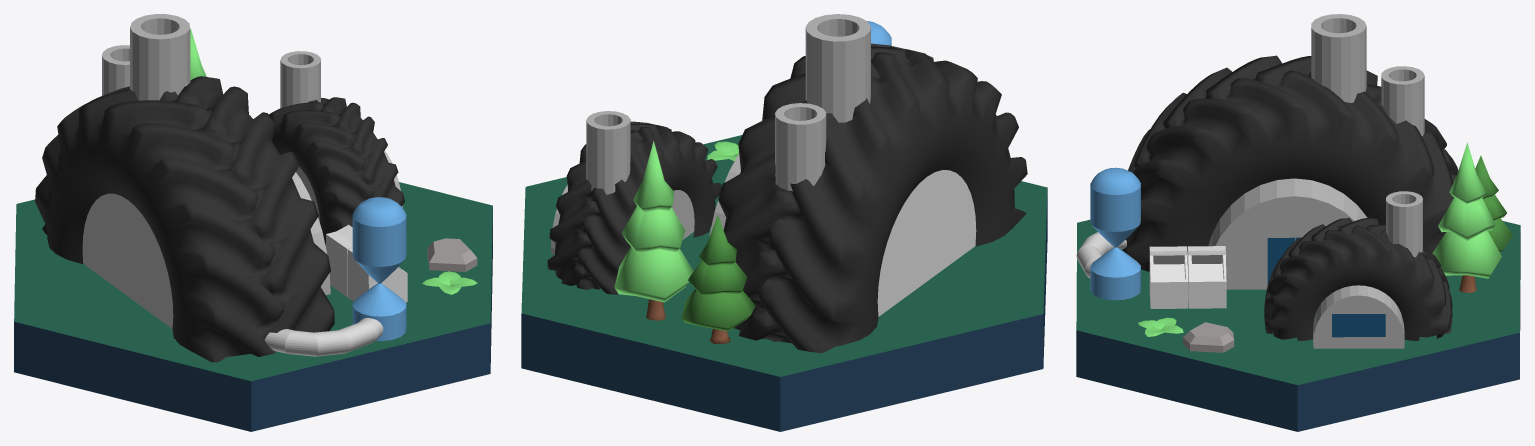
The model's file is Macro - transportation factory lv2 wm 2.fbx.
3 renders of one model, left to right at view 1: azimuth 30°, elevation 25°; view 2: azimuth 150°, elevation 25°; view 3: azimuth 270°, elevation 25°, orthographic. The views are drawn at different scales.
Parts seen in each view (by area): view 1: Cylinder.018, Cylinder.154, Cylinder.020, Cylinder.014, Cylinder.007, Cylinder.011, Cube.004, Cylinder.003, Rock Type4 04 mesh.001, Cube.002, Cube.003, Cylinder.004 (+2 smaller); view 2: Cylinder.154, Cylinder.018, Cylinder.020, Cylinder.014, Tree_Spruce_tiny_01.002, Cylinder.011, Tree_Spruce_tiny_01.001, Cylinder.004, Cylinder.003, Cylinder.006; view 3: Cylinder.154, Cylinder.018, Cylinder.020, Cylinder.016, Cylinder.007, Tree_Spruce_tiny_01.002, Cylinder.011, Cylinder.015, Cube.002, Cube.003, Cylinder.004, Cylinder.003 (+6 smaller).
Boxes of the visible parts, box(x1,y1,x2,y2) form: Cylinder.018: box(35, 76, 334, 362); Cylinder.154: box(14, 182, 492, 431); Cylinder.020: box(269, 97, 406, 244); Cylinder.014: box(82, 193, 173, 328); Cylinder.007: box(352, 197, 406, 341); Cylinder.011: box(130, 14, 190, 100); Cube.004: box(264, 318, 383, 356); Cylinder.003: box(280, 51, 320, 108); Rock Type4 04 mesh.001: box(427, 238, 477, 271); Cube.002: box(347, 248, 407, 302); Cube.003: box(326, 224, 352, 296); Cylinder.004: box(102, 45, 129, 95); Cylinder.154: box(521, 135, 1047, 431); Cylinder.018: box(718, 43, 1027, 353); Cylinder.020: box(547, 121, 721, 294); Cylinder.014: box(877, 170, 976, 316); Tree_Spruce_tiny_01.002: box(614, 141, 693, 320); Cylinder.011: box(805, 14, 870, 122); Tree_Spruce_tiny_01.001: box(681, 214, 755, 344); Cylinder.004: box(775, 103, 826, 191); Cylinder.003: box(586, 111, 630, 194); Cylinder.006: box(672, 190, 694, 239); Cylinder.154: box(1076, 219, 1520, 431); Cylinder.018: box(1122, 55, 1458, 271); Cylinder.020: box(1264, 217, 1452, 340); Cylinder.016: box(1208, 178, 1367, 289); Cylinder.007: box(1090, 167, 1140, 300); Tree_Spruce_tiny_01.002: box(1432, 142, 1501, 292); Cylinder.011: box(1311, 14, 1366, 102); Cylinder.015: box(1313, 285, 1404, 348); Cube.002: box(1149, 246, 1188, 308); Cube.003: box(1188, 246, 1226, 308); Cylinder.004: box(1381, 66, 1424, 136); Cylinder.003: box(1386, 191, 1422, 257).
Size of the model in its own units: 197 by 133 by 172.
